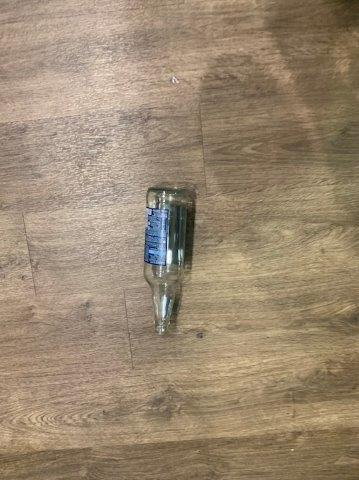botolkaca: (143, 187, 191, 337)
